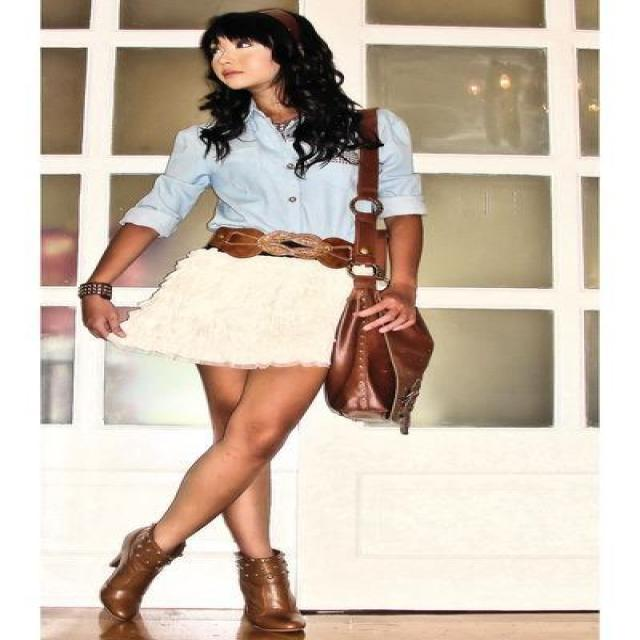bag: (317, 104, 432, 434)
shirt: (119, 105, 422, 242)
shoe: (99, 525, 341, 639)
skirt: (120, 248, 352, 370)
